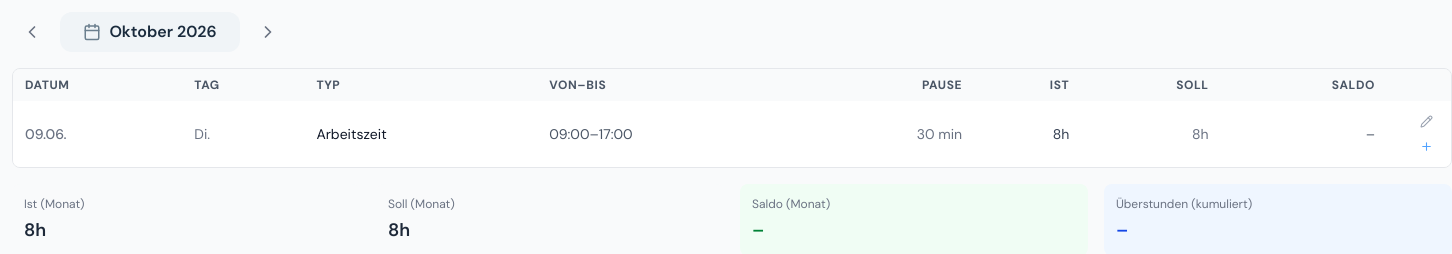
<MonthlyJournal /> Typwechsel (U1, Audit 2026-07-31) › laedt nach einem Fehlschlag neu und verlaesst den Bearbeitungsmodus
The width and height of the screenshot is (1452, 254).
Click the button titled "09:00–17:00 bearbeiten". click: (1426, 122)
box: [1414, 109, 1439, 134]
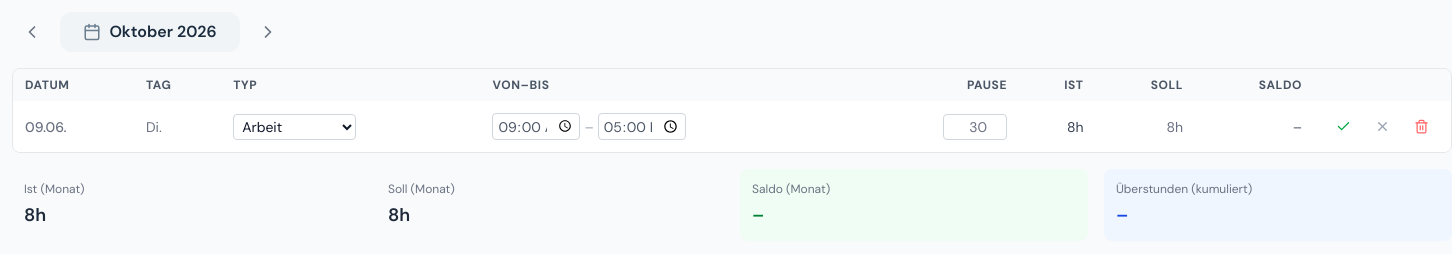
Select "Krank" in the dropdown showing "Arbeit". click: (295, 126)
box: [233, 114, 356, 140]
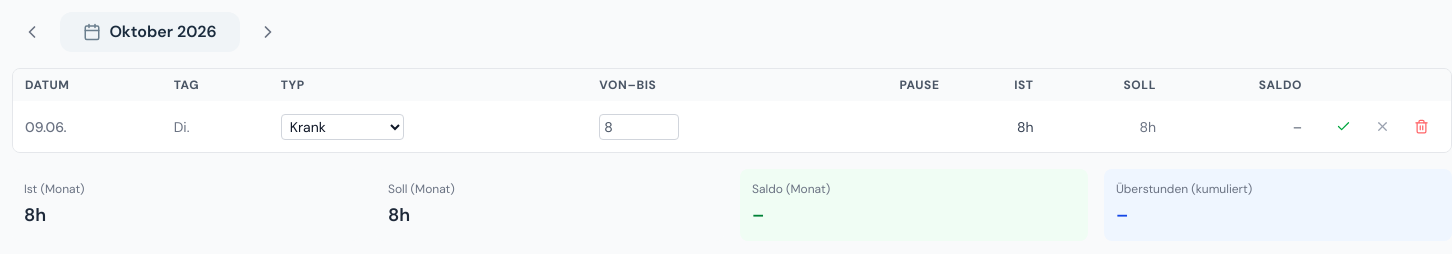
Click the button titled "Speichern". click: (1344, 126)
box: [1326, 109, 1361, 144]
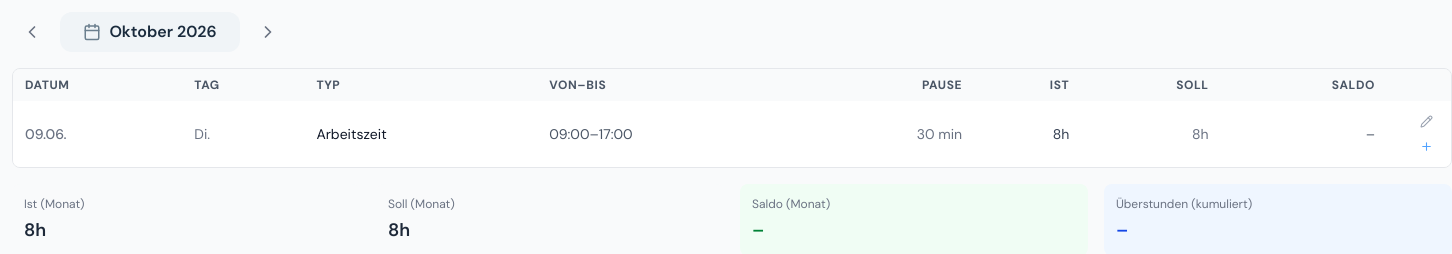
Check: the button titled "Speichern" is gone
